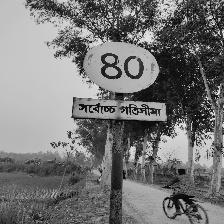Speed-limit: (73, 41, 165, 124)
